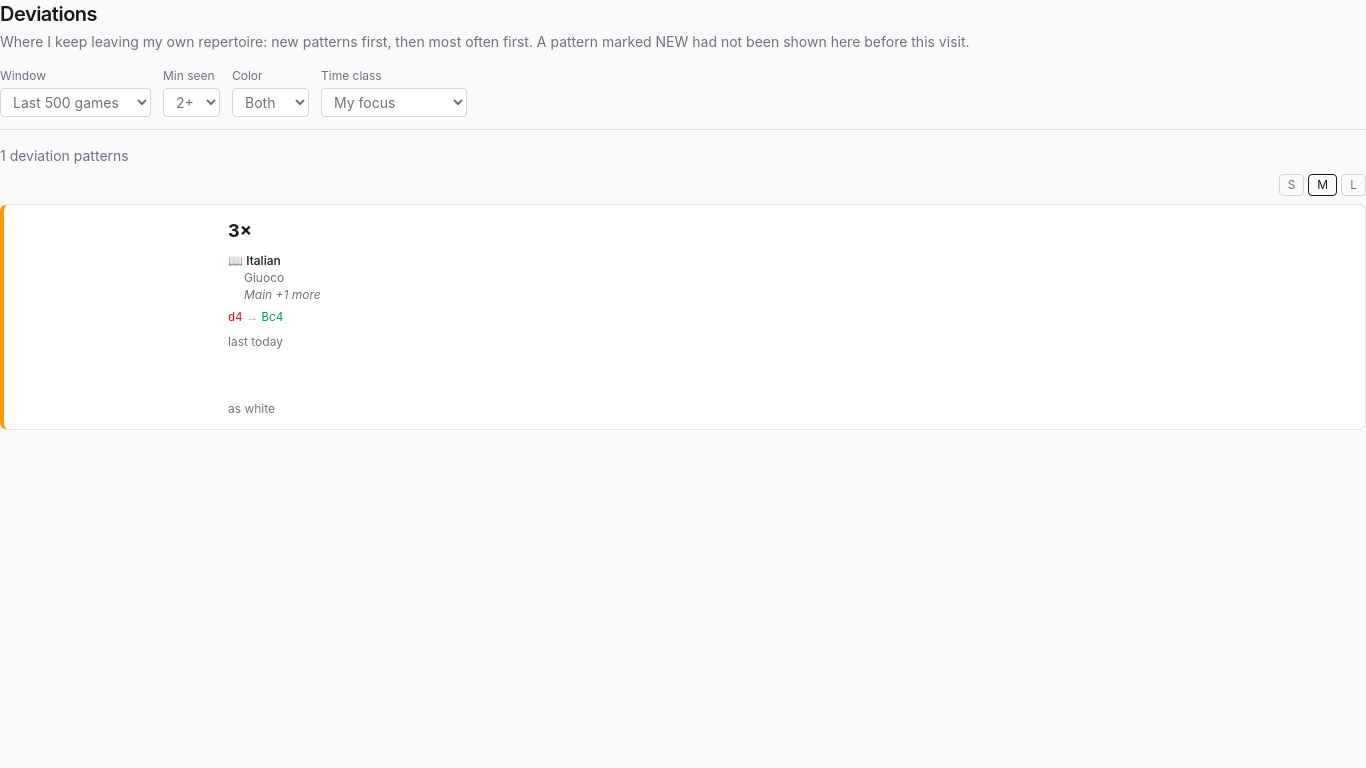
Deviations page › offers no Add to repertoire on an uncovered board: a deviation is by definition on a repertoire line
Click the text "3×": [240, 231] box [228,217,252,245]
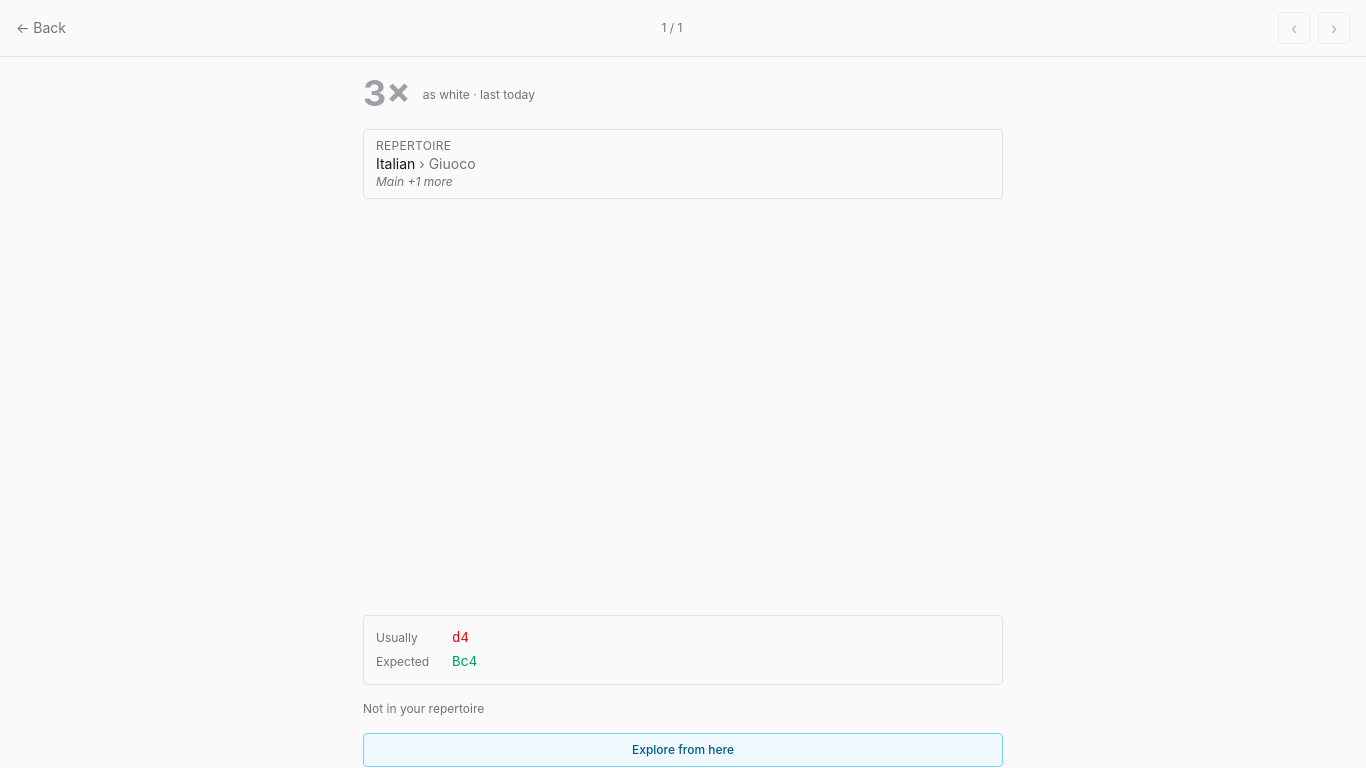
Check: the text "Not in your repertoire" is shown, box [363,701,484,716]
